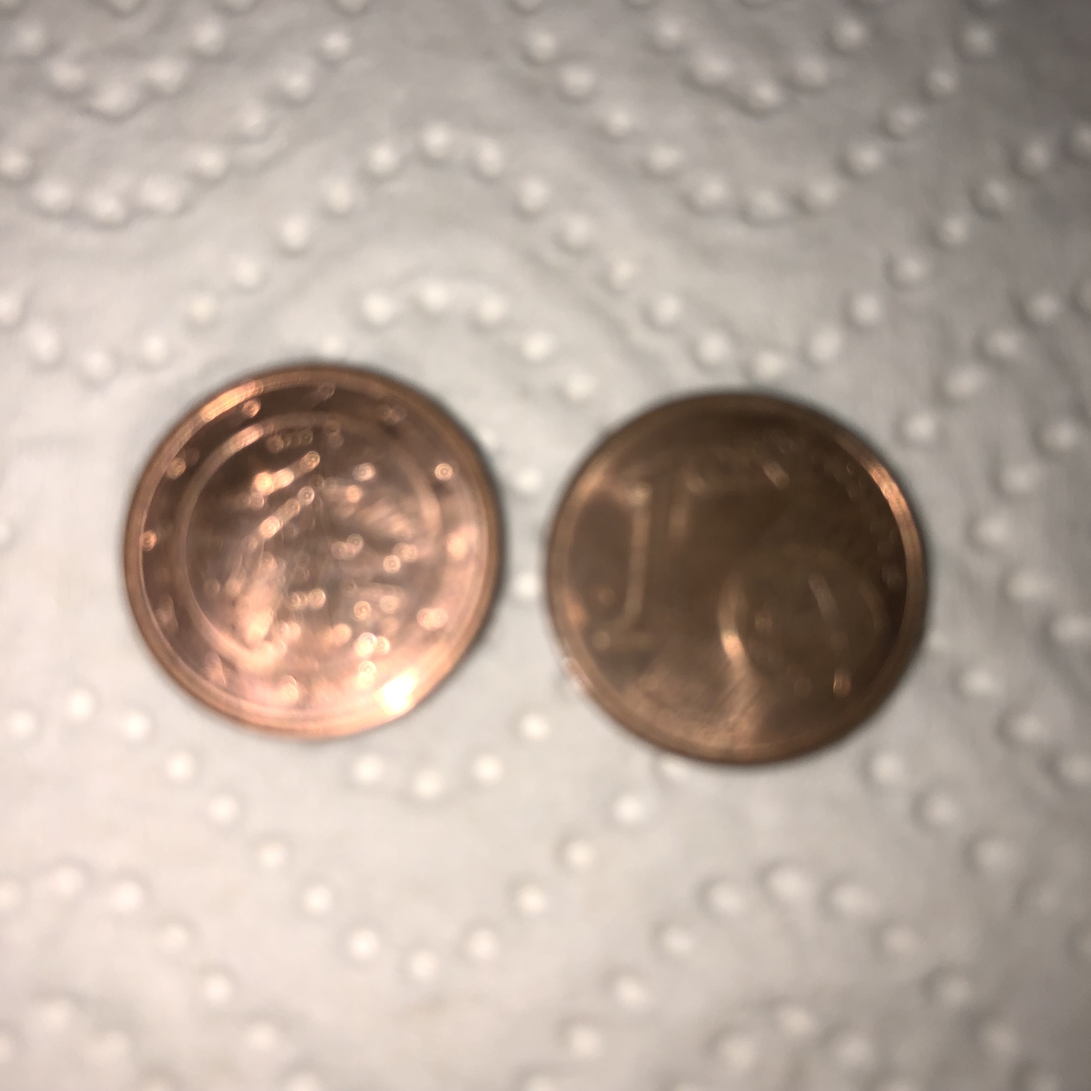1 cent: (534, 385, 936, 764), (116, 365, 517, 744)
